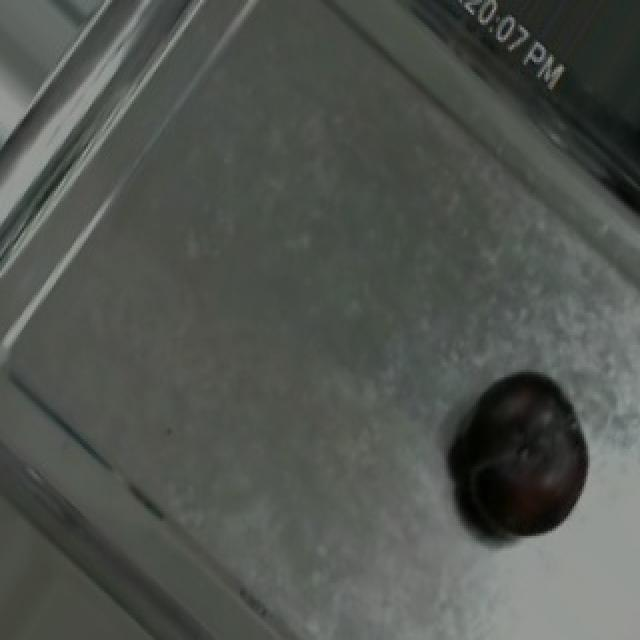Fruit: (444, 350, 606, 553)
